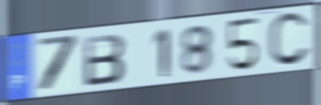1: (153, 28, 171, 79)
5: (226, 15, 261, 73)
7: (36, 33, 81, 95)
8: (179, 23, 215, 77)
B: (82, 32, 128, 89)
C: (267, 10, 312, 70)
